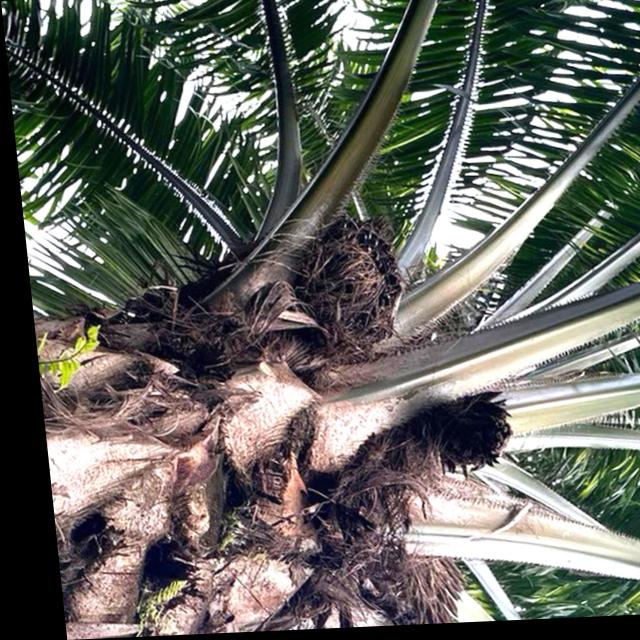almost: (271, 218, 410, 354)
